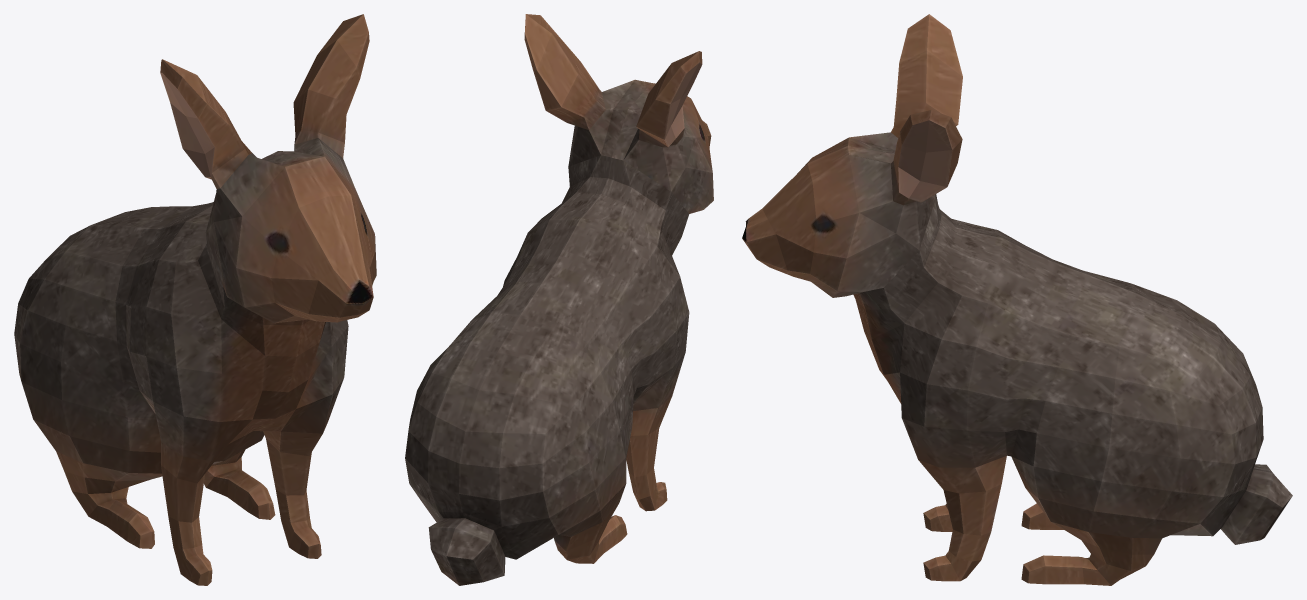
The model's file is 0s-PwU4ssMx.glb.
The picture shows the model from 3 angles, left to right: view 1: azimuth 30°, elevation 25°; view 2: azimuth 150°, elevation 25°; view 3: azimuth 270°, elevation 25°; orthographic projection. The views are drawn at different scales.
Parts seen in each view (by area): view 1: CottontailRabbit_mesh; view 2: CottontailRabbit_mesh; view 3: CottontailRabbit_mesh.
Boxes of the visible parts, bbox=[...] form: CottontailRabbit_mesh: bbox=[14, 14, 376, 585]; CottontailRabbit_mesh: bbox=[405, 14, 713, 585]; CottontailRabbit_mesh: bbox=[742, 14, 1292, 585].
Bounding box in the file's own units: 0.4213 × 1 × 1.01.
Materials: 1 (1 with a texture image).
